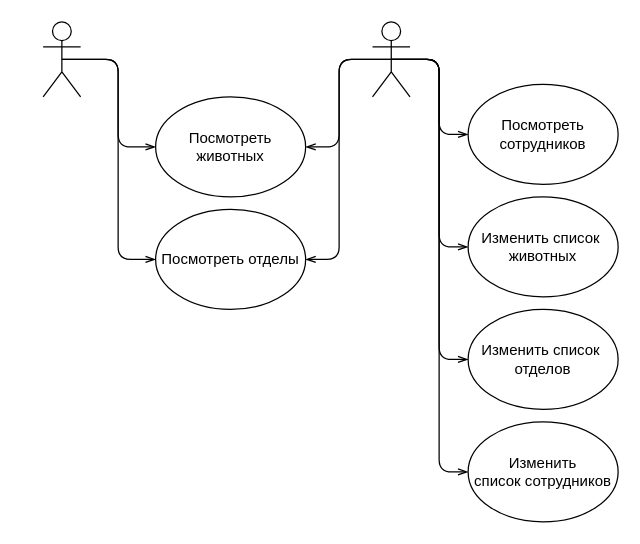
The diagram is 640 pixels wide and 544 high, and some of its shapes have lost their labels. The box of each missing label's shape, as (x1, y1, x2, y2) in pixels:
Посетитель: (42, 21, 81, 97)
Сотрудник: (371, 21, 410, 97)
